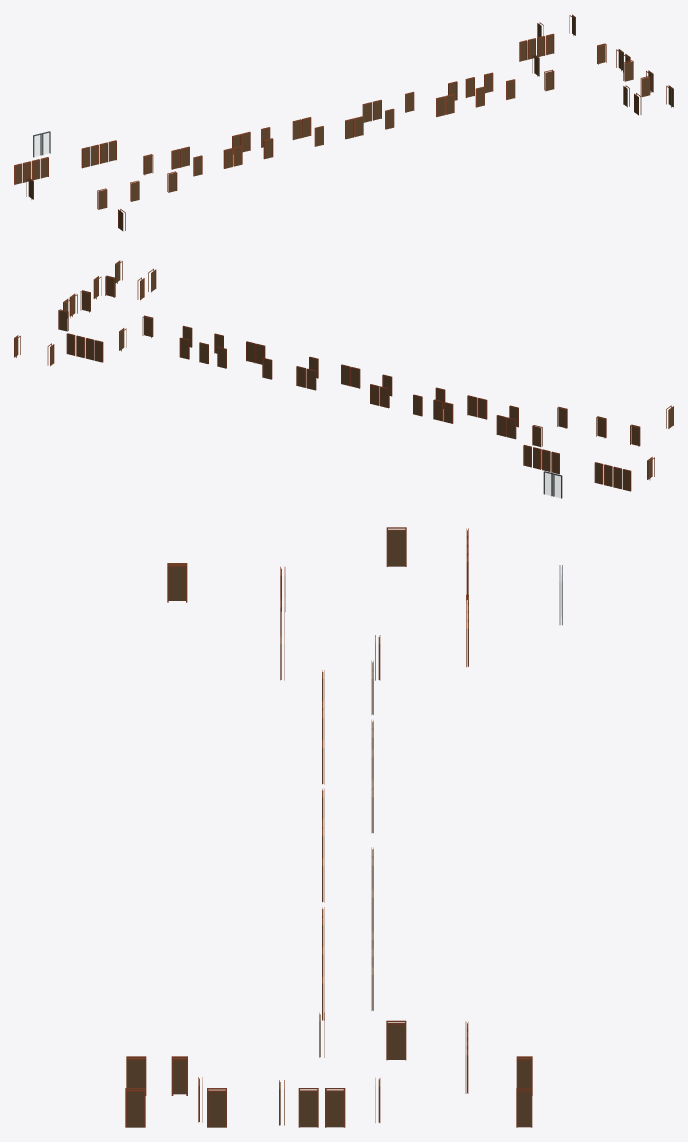
Rendered from insaat_revit_test_erisim.ifc.ifc.ifc_105.5 Yapı Statiği_IfcDoor.dae.
The picture shows the model from 3 angles, top to bottom: view 1: azimuth 30°, elevation 25°; view 2: azimuth 150°, elevation 25°; view 3: azimuth 270°, elevation 25°; orthographic projection. The views are drawn at different scales.
Bounding box in the file's own units: 68.5 × 22.46 × 2.48.
